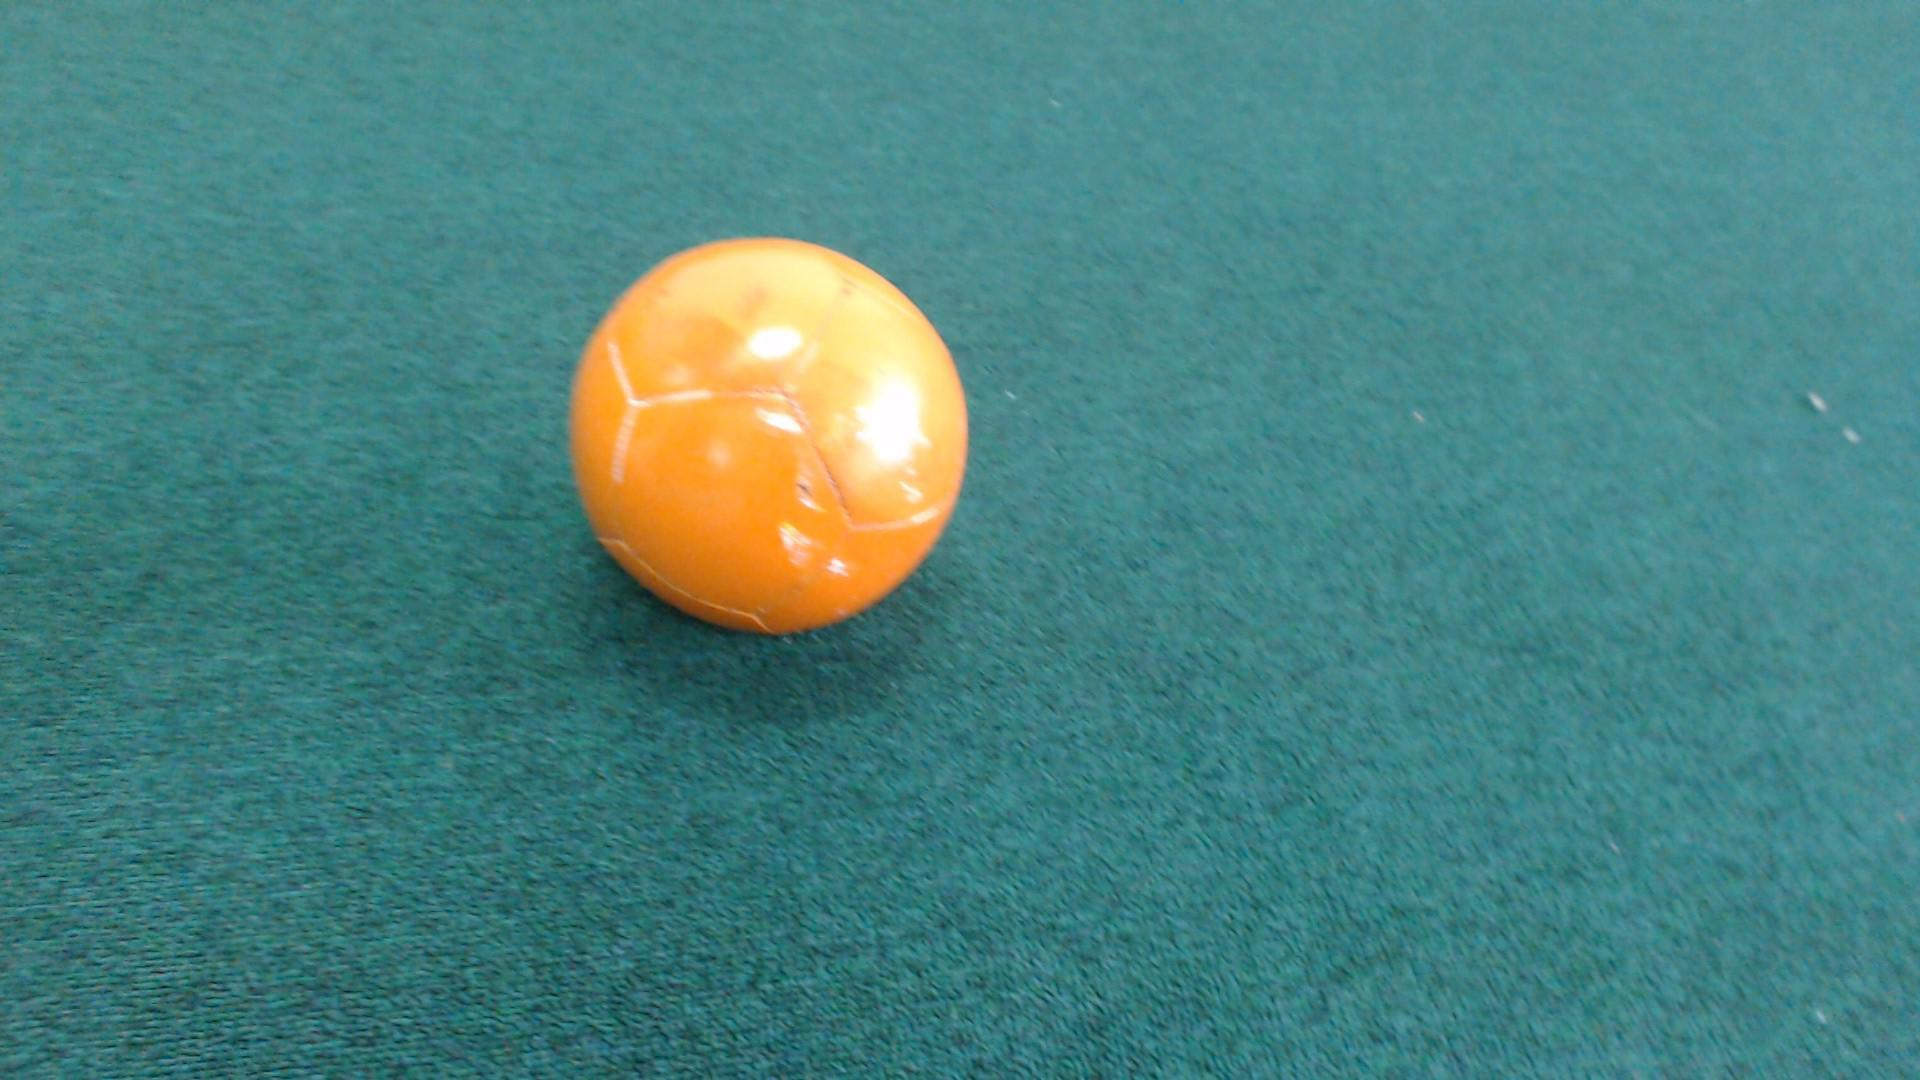bola: (530, 228, 1004, 646)
